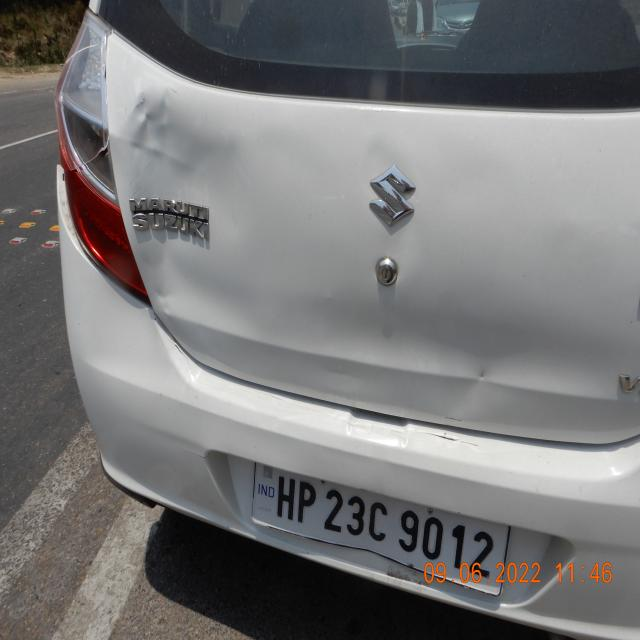damage: (134, 86, 211, 166), (428, 417, 485, 454), (147, 273, 191, 313), (474, 358, 493, 388)
